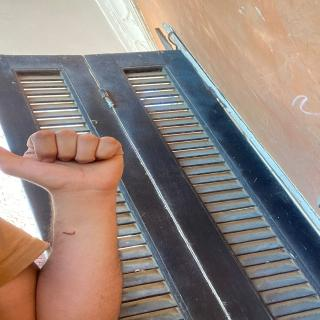DAD: (0, 122, 140, 199)
